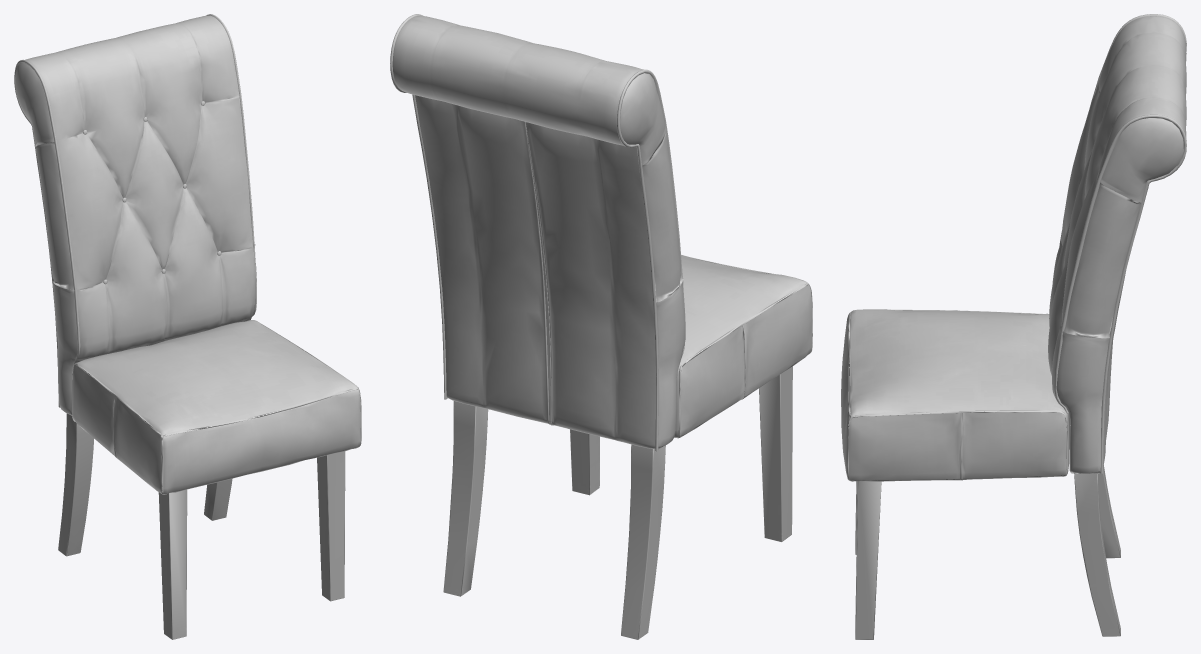
The model's file is chair-2.fallback.glb.
The picture shows the model from 3 angles, left to right: view 1: azimuth 30°, elevation 25°; view 2: azimuth 150°, elevation 25°; view 3: azimuth 270°, elevation 25°; orthographic projection. The views are drawn at different scales.
Parts seen in each view (by area): view 1: dining_chair_02; view 2: dining_chair_02; view 3: dining_chair_02.
Part boxes in pixels (box(x1,y1,x2,y2)): dining_chair_02: box(14, 14, 361, 639); dining_chair_02: box(390, 14, 812, 639); dining_chair_02: box(841, 14, 1186, 639).
Bounding box in the file's own units: 0.4062 × 0.9118 × 0.54.
Materials: 1 (1 with a texture image).
